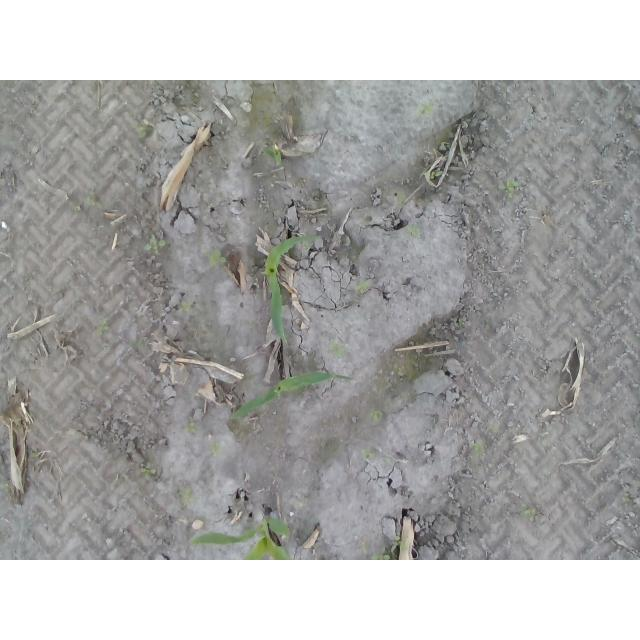Maize: (232, 372, 357, 420), (264, 234, 320, 340), (190, 505, 291, 560)
Weeds: (360, 545, 390, 560), (264, 145, 284, 165), (143, 236, 166, 253), (207, 249, 225, 267), (520, 505, 539, 521), (97, 318, 112, 336), (141, 463, 156, 481), (505, 178, 520, 195), (409, 224, 424, 240), (417, 101, 432, 116), (369, 409, 384, 424), (137, 125, 152, 139), (328, 341, 340, 358), (391, 536, 400, 557), (182, 487, 194, 502), (355, 280, 369, 292), (184, 421, 197, 433), (474, 443, 485, 454), (178, 301, 190, 311), (361, 448, 369, 462), (429, 170, 443, 178), (210, 443, 218, 453)
